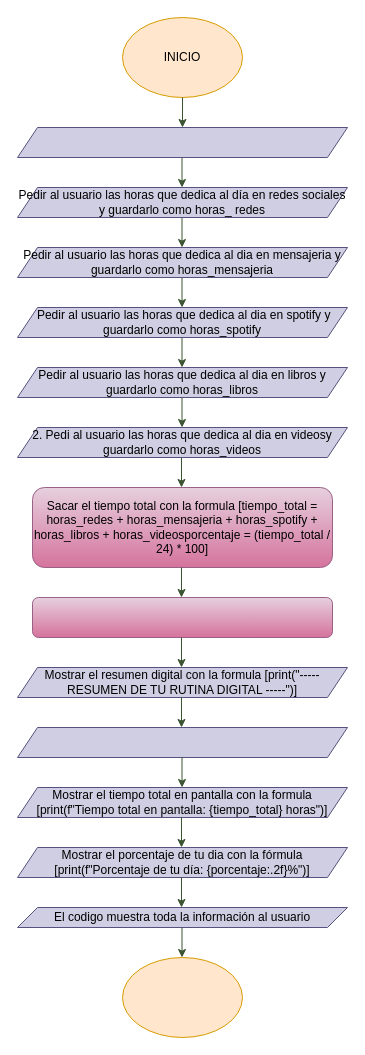
Some shapes in this 365 by 1055 pixel diagram are drawn without their labels. The centre of each missing label's shape, as x and y in pixels:
FIN: point (182, 997)
Mostrar el nombre del usuario con la formula [print(f"Usuario: {nombre}")]: point (182, 742)
Pedir al usuario su nombre y guardarlo como nombre: point (182, 142)
Sacar el porcentaje con la formula [porcentaje = (tiempo_total / 24) * 100]: point (182, 617)
